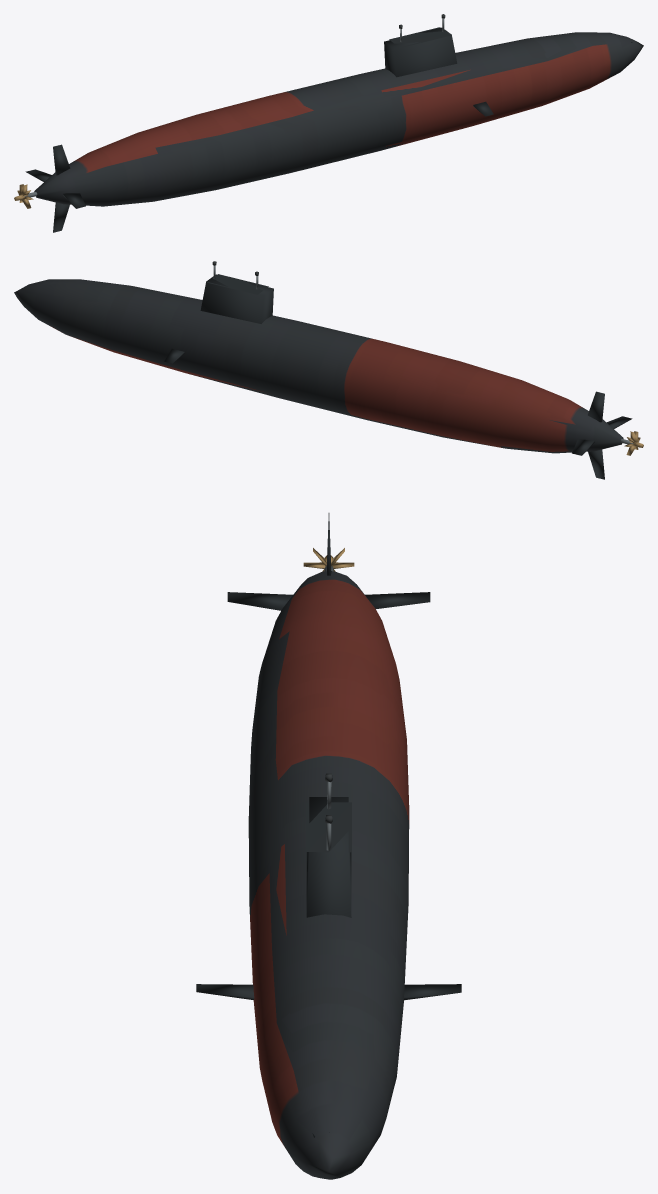
The model's file is RU_SSN_Sierra_LOD3.fbx.
3 views of the same model, one above another, from view 1: azimuth 30°, elevation 25°; view 2: azimuth 150°, elevation 25°; view 3: azimuth 270°, elevation 25° (orthographic). The views are drawn at different scales.
Parts seen in each view (by area): view 1: RU_SSN_Sierra_LOD3; view 2: RU_SSN_Sierra_LOD3; view 3: RU_SSN_Sierra_LOD3.
Boxes of the visible parts, <box> form: RU_SSN_Sierra_LOD3: <box>14,14,643,232</box>; RU_SSN_Sierra_LOD3: <box>14,261,643,479</box>; RU_SSN_Sierra_LOD3: <box>196,513,461,1179</box>.
Size of the model in its own units: 111 by 20.25 by 20.67.
6 materials, 1 textured.
